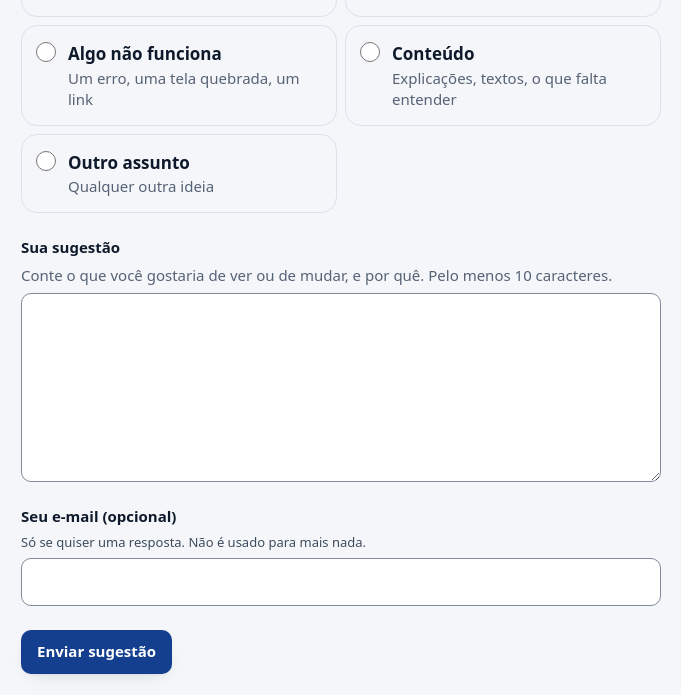
Test: SuggestionPage › mostra o erro de assunto quando nenhum foi escolhido
(page scrolled)
Type "Uma ideia qualquer para o app." into the text box labelled "Sua sugestão" at [341, 387], box [21,293,661,482]
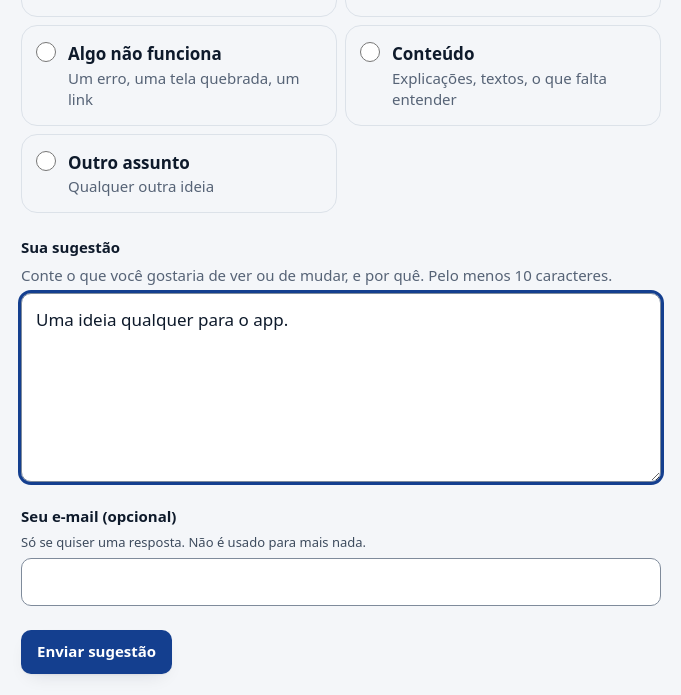
Click the button "Enviar sugestão" at [97, 652], box [21,630,172,674]
(page scrolled)
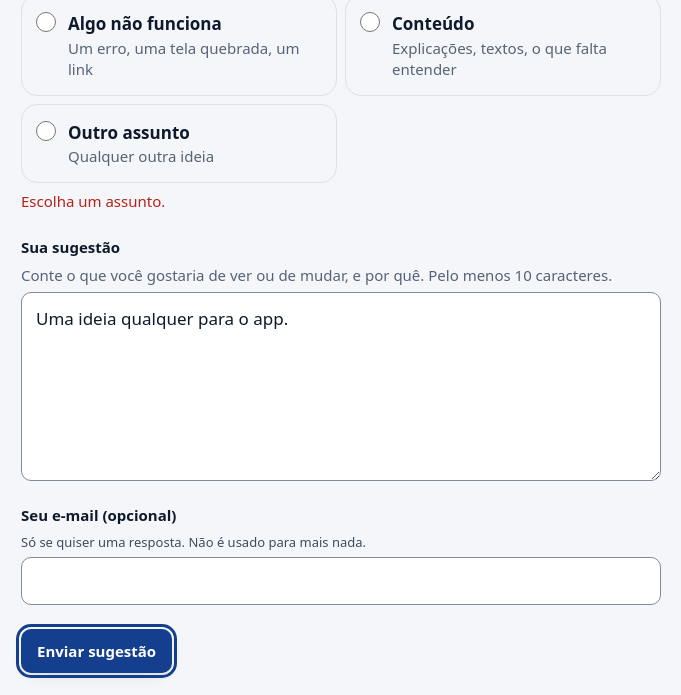
Expected: the text "Escolha um assunto." is shown, [21,191,165,211]
